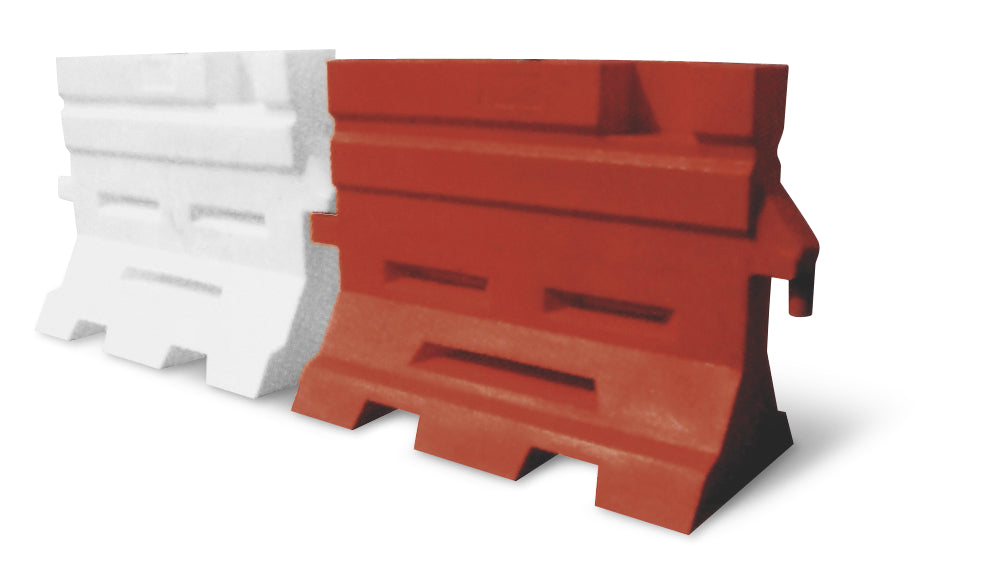Barrier: (24, 47, 827, 537)
